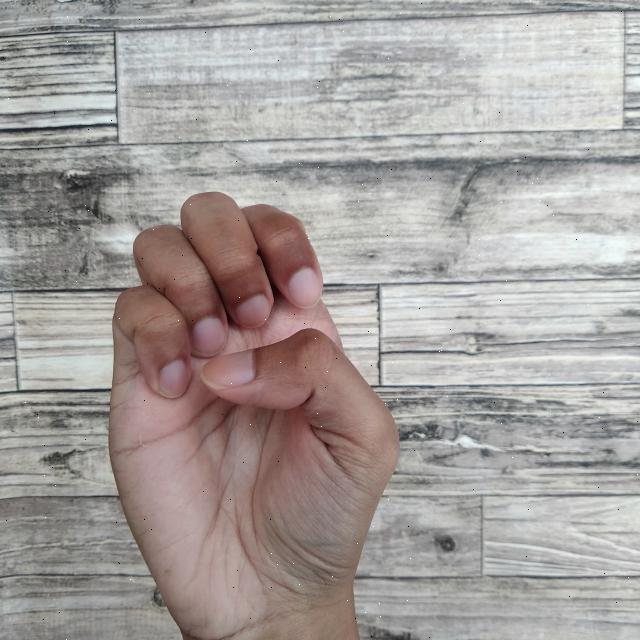E: (110, 189, 397, 640)
